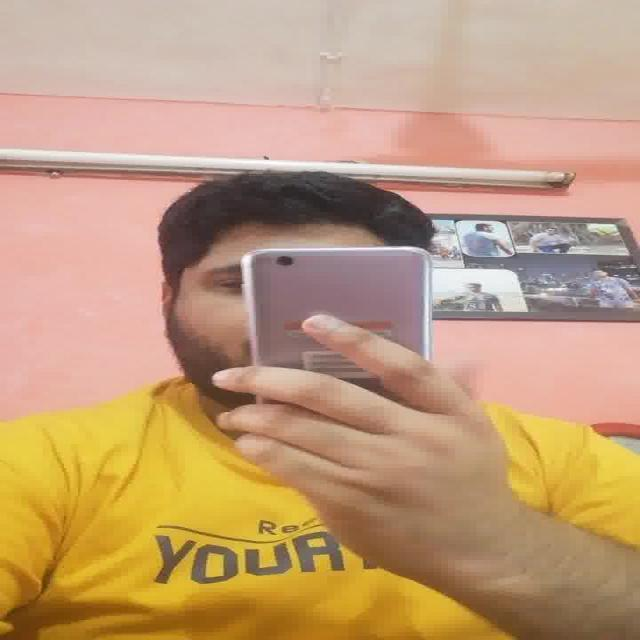Phone: (240, 245, 434, 368)
